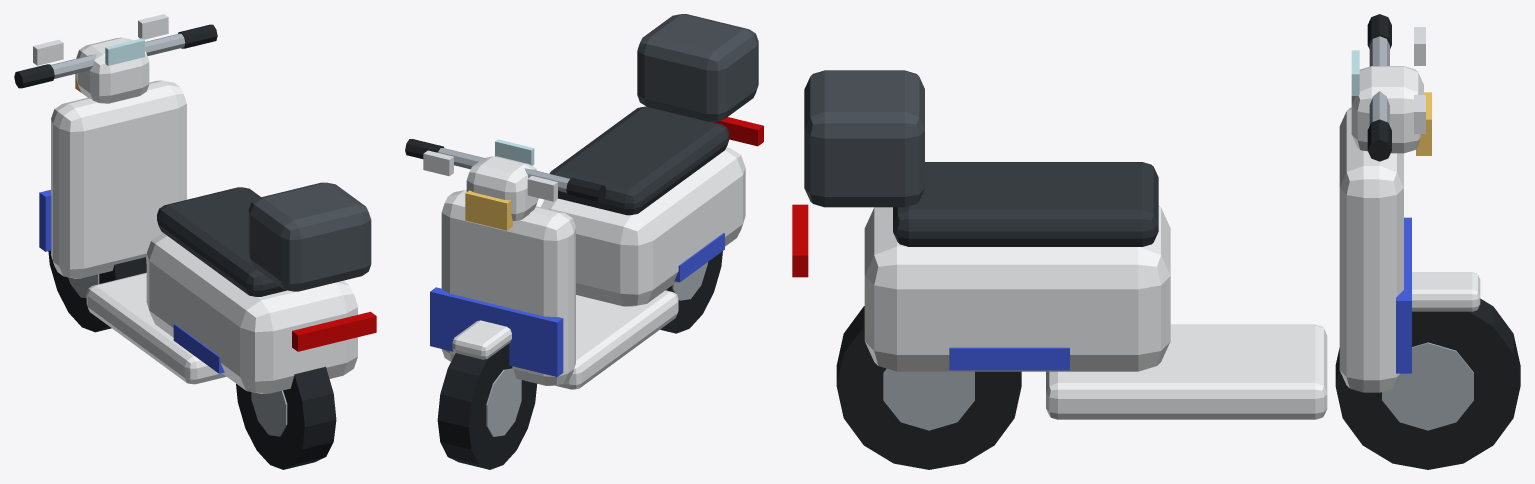
The model's file is st_scooter.glb.
The picture shows the model from 3 angles, left to right: view 1: azimuth 30°, elevation 25°; view 2: azimuth 150°, elevation 25°; view 3: azimuth 270°, elevation 25°; orthographic projection. The views are drawn at different scales.
Visible parts, largest first — view 1: Cube.004, Cube.001, Cube.011, Cube.003, Cylinder.002, Cube, Cube.006, Cylinder, Cube.012, Cylinder.003, Cylinder.004, Cube.002 (+7 smaller); view 2: Cube.001, Cube.004, Cube.003, Cube.011, Cylinder, Cube.005, Cube, Cube.006, Cylinder.001, Cube.013, Cylinder.002, Cube.009 (+9 smaller); view 3: Cube.001, Cube, Cube.003, Cube.011, Cube.004, Cylinder, Cylinder.002, Cylinder.001, Cylinder.003, Cube.006, Cube.002, Cube.013 (+4 smaller).
Boxes of the visible parts, left/top/right/bottom form: Cube.004: left=51, top=80, right=186, bottom=278; Cube.001: left=146, top=233, right=357, bottom=393; Cube.011: left=248, top=182, right=371, bottom=291; Cube.003: left=157, top=187, right=286, bottom=296; Cylinder.002: left=236, top=366, right=336, bottom=469; Cube: left=86, top=272, right=226, bottom=384; Cube.006: left=76, top=37, right=149, bottom=103; Cylinder: left=48, top=250, right=146, bottom=332; Cube.012: left=292, top=311, right=376, bottom=351; Cylinder.003: left=251, top=390, right=287, bottom=436; Cylinder.004: left=51, top=33, right=185, bottom=78; Cube.002: left=173, top=324, right=224, bottom=373; Cube.001: left=541, top=147, right=745, bottom=306; Cube.004: left=441, top=190, right=575, bottom=385; Cube.003: left=549, top=106, right=729, bottom=215; Cube.011: left=637, top=14, right=758, bottom=121; Cylinder: left=437, top=343, right=536, bottom=469; Cube.005: left=430, top=287, right=563, bottom=376; Cube: left=555, top=290, right=678, bottom=389; Cube.006: left=466, top=156, right=538, bottom=221; Cylinder.001: left=486, top=368, right=521, bottom=436; Cube.013: left=452, top=320, right=511, bottom=359; Cylinder.002: left=660, top=251, right=722, bottom=333; Cube.009: left=465, top=190, right=512, bottom=230; Cube.001: left=864, top=205, right=1170, bottom=371; Cube: left=1046, top=324, right=1327, bottom=419; Cube.003: left=893, top=162, right=1158, bottom=246; Cube.011: left=804, top=70, right=924, bottom=207; Cube.004: left=1339, top=107, right=1403, bottom=392; Cylinder: left=1335, top=298, right=1520, bottom=469; Cylinder.002: left=836, top=306, right=1021, bottom=469; Cylinder.001: left=1382, top=342, right=1473, bottom=430; Cylinder.003: left=883, top=368, right=974, bottom=430; Cube.006: left=1351, top=66, right=1423, bottom=153; Cube.002: left=949, top=347, right=1069, bottom=370; Cube.013: left=1412, top=272, right=1480, bottom=311.
Size of the model in its own units: 74 by 109 by 181.
